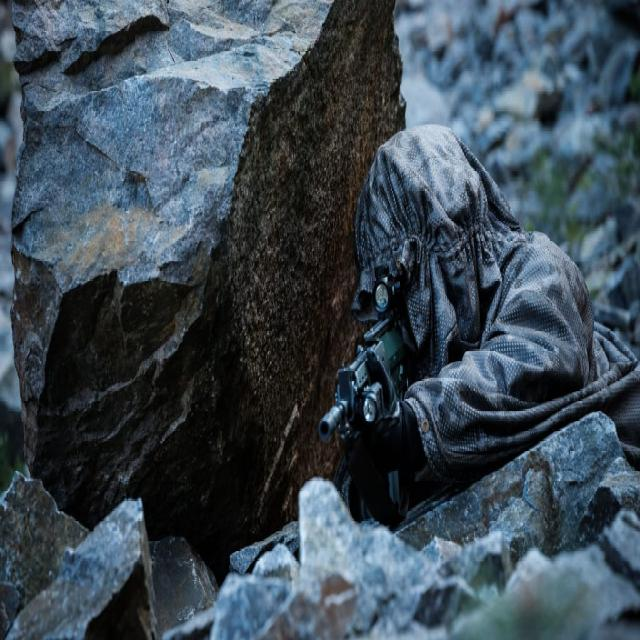Camouflage: (316, 121, 634, 477)
